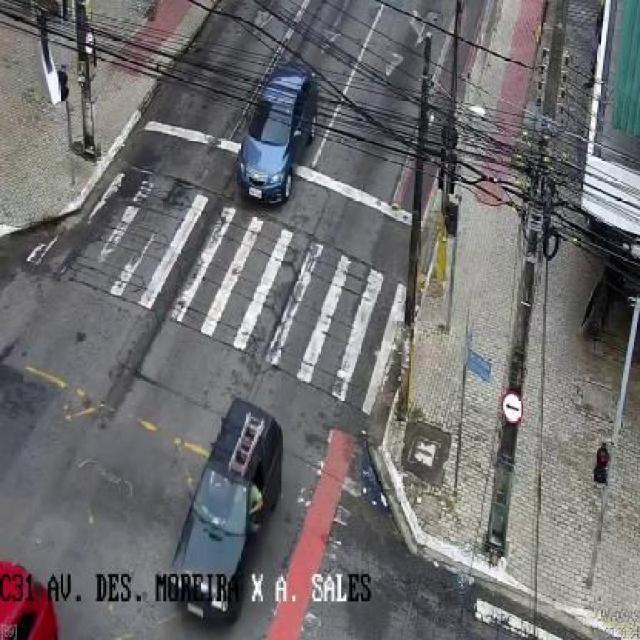Car: (167, 393, 291, 622), (235, 61, 312, 222), (0, 548, 79, 640)
